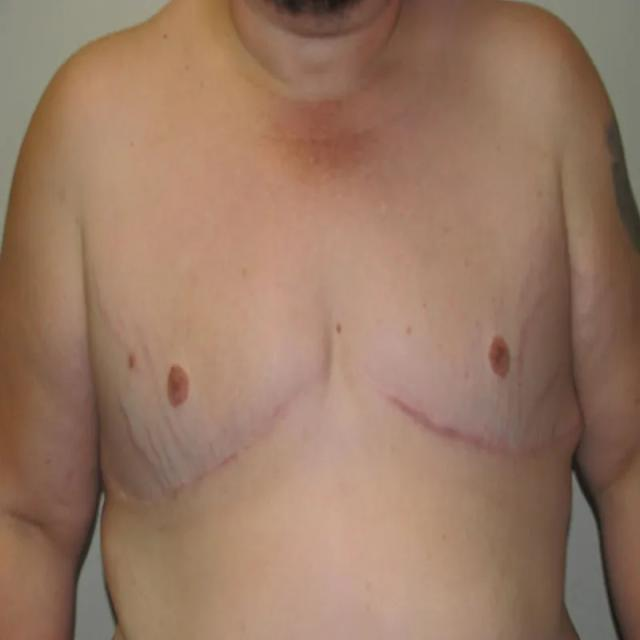Seno herido: (85, 221, 339, 534), (346, 220, 592, 534)
